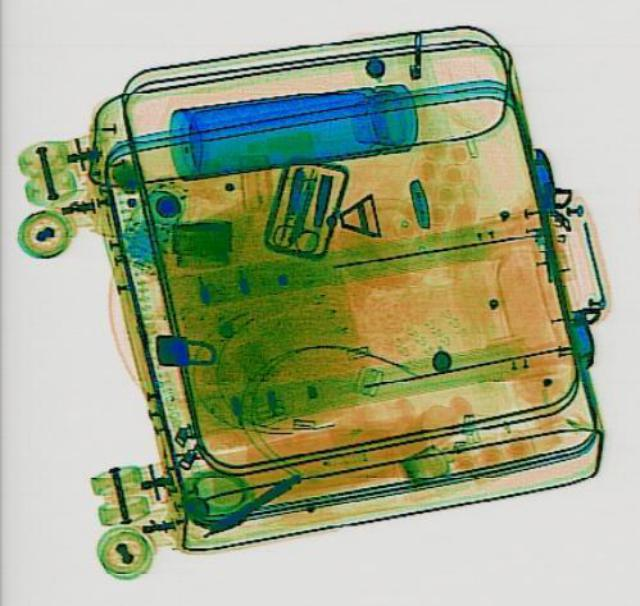Scissors: (266, 167, 336, 255)
